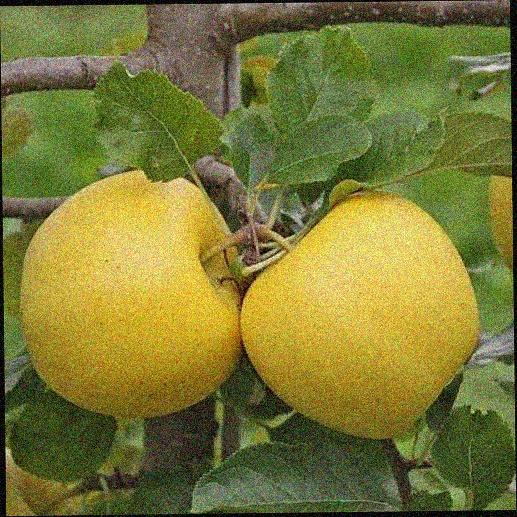green apple: (17, 170, 245, 434), (245, 185, 482, 438)
